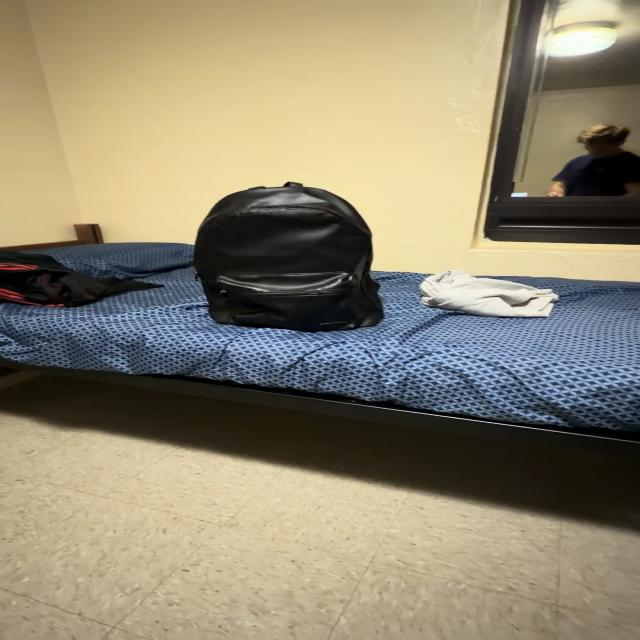backpack: (195, 182, 382, 331)
